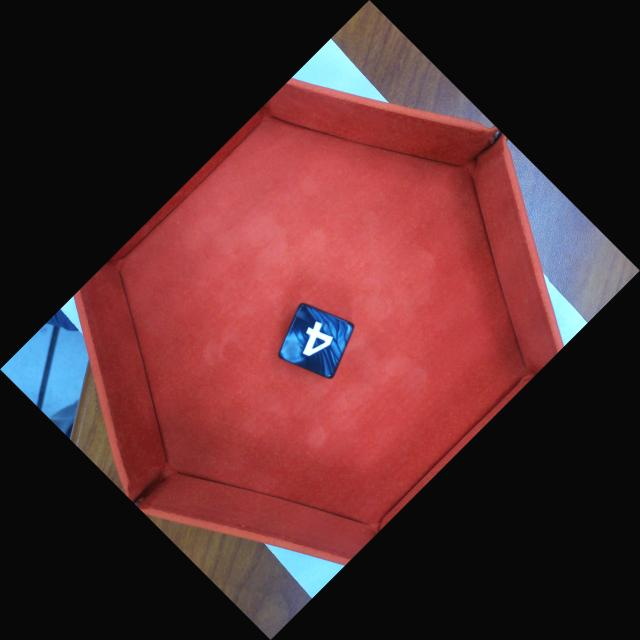dice: (276, 302, 358, 381)
